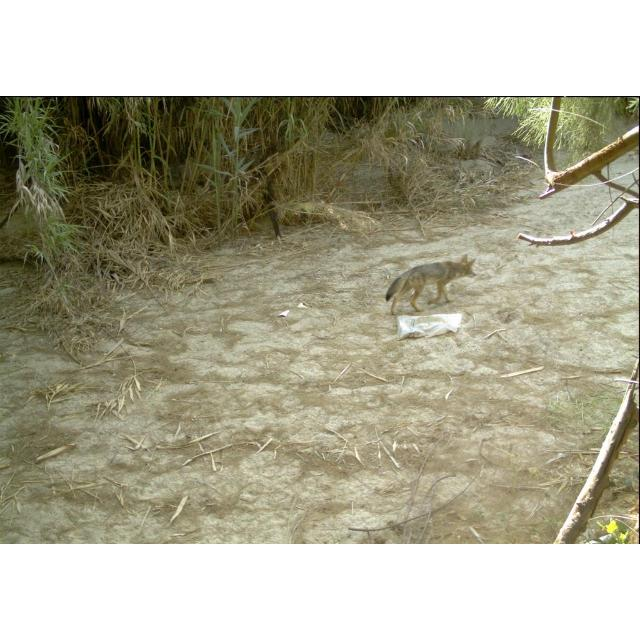animals: (384, 252, 478, 316)
